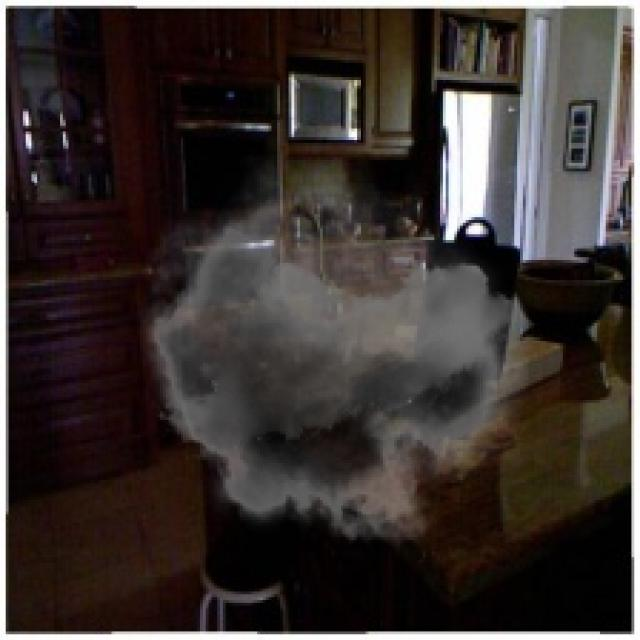smoke: (123, 154, 528, 563)
